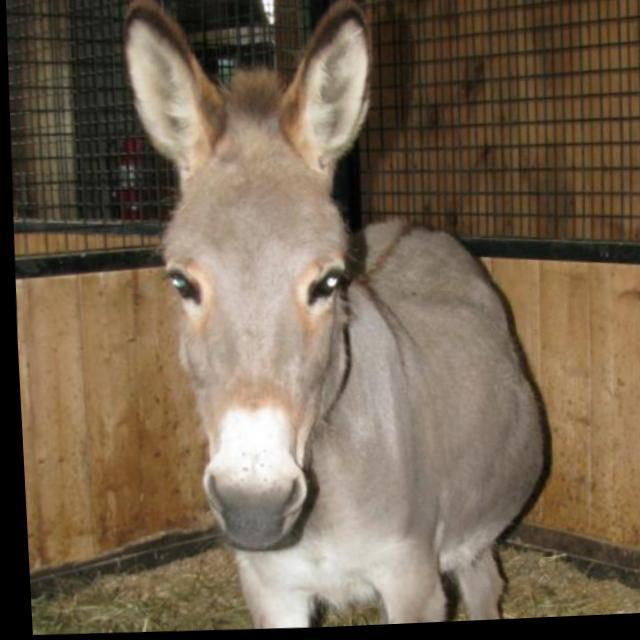Donkey: (110, 0, 557, 636)
